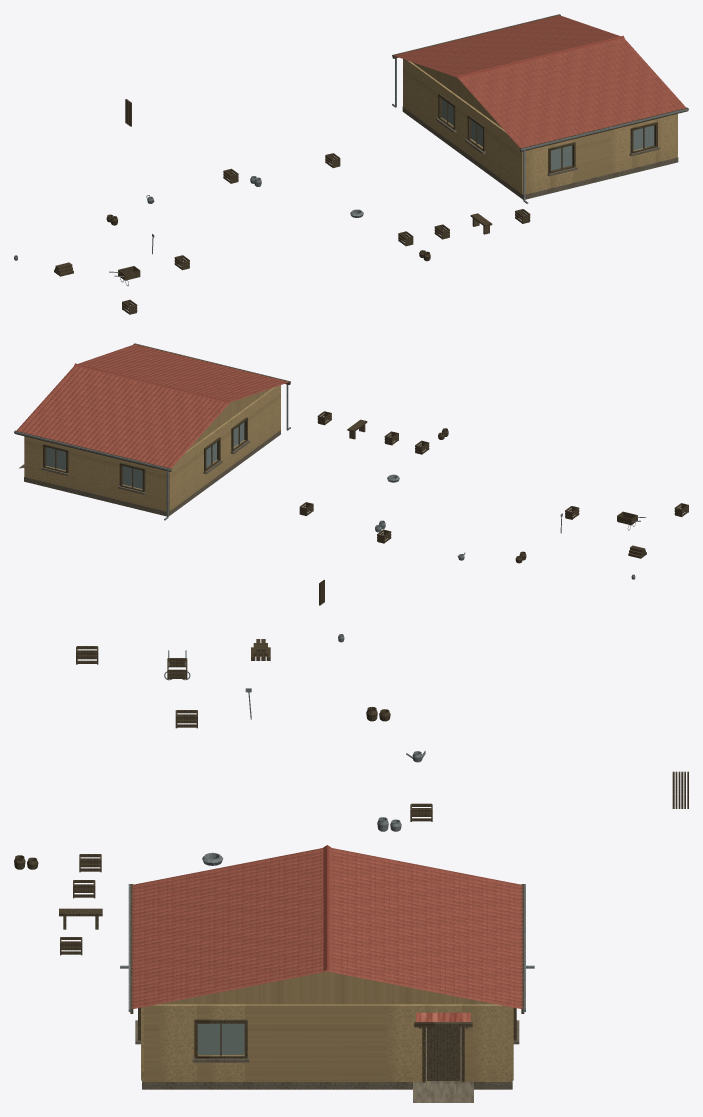
The picture shows the model from 3 angles, top to bottom: view 1: azimuth 30°, elevation 25°; view 2: azimuth 150°, elevation 25°; view 3: azimuth 270°, elevation 25°; orthographic projection. The views are drawn at different scales.
Parts seen in each view (by area): view 1: H04_TELHAS, H04_LATERAIS, H04_FUNDOS, H04_FUNDACAO, H04_VIDROS_RECUADOS, H04_CAIXILHOS, H04_OITOES, H04_BEIRAIS, H04_CUMEEIRA, H04_CALHA; view 2: H04_TELHAS, H04_LATERAIS, H04_FUNDOS, H04_FUNDACAO, H04_VIDROS_RECUADOS, H04_CAIXILHOS, H04_OITOES, H04_BEIRAIS, H04_CALHA, H04_CUMEEIRA; view 3: H04_TELHAS, H04_FACHADA, H04_OITOES, H04_FUNDACAO, H04_PORTA_FOLHA, H04_VIDROS_RECUADOS, H04_RAMPA, H04_CUMEEIRA, H04_CAIXILHOS, H04_BEIRAIS.
Boxes of the visible parts, x1,y1,x2,y2 form: H04_TELHAS: (395,15,685,147); H04_LATERAIS: (525,114,677,194); H04_FUNDOS: (403,59,523,194); H04_FUNDACAO: (402,106,678,199); H04_VIDROS_RECUADOS: (442,98,654,170); H04_CAIXILHOS: (438,93,657,173); H04_OITOES: (412,62,501,127); H04_BEIRAIS: (392,14,688,151); H04_CUMEEIRA: (457,35,624,78); H04_CALHA: (392,14,688,150); H04_TELHAS: (16,344,288,468); H04_LATERAIS: (25,436,166,511); H04_FUNDOS: (168,385,280,511); H04_FUNDACAO: (24,430,280,516); H04_VIDROS_RECUADOS: (46,422,244,489); H04_CAIXILHOS: (43,417,247,491); H04_OITOES: (188,388,272,449); H04_BEIRAIS: (14,343,290,471); H04_CALHA: (14,343,290,470); H04_CUMEEIRA: (74,363,230,403); H04_TELHAS: (132,848,522,1008); H04_FACHADA: (144,1004,510,1081); H04_OITOES: (159,971,495,1004); H04_FUNDACAO: (142,1024,512,1089); H04_PORTA_FOLHA: (427,1027,460,1080); H04_VIDROS_RECUADOS: (198,1023,244,1054); H04_RAMPA: (413,1083,473,1102); H04_CUMEEIRA: (323,845,331,971); H04_CAIXILHOS: (138,1007,516,1058); H04_BEIRAIS: (130,884,524,1013).
Size of the model in its own units: 34.08 by 4.28 by 21.
Materials: 9 (8 with a texture image).
